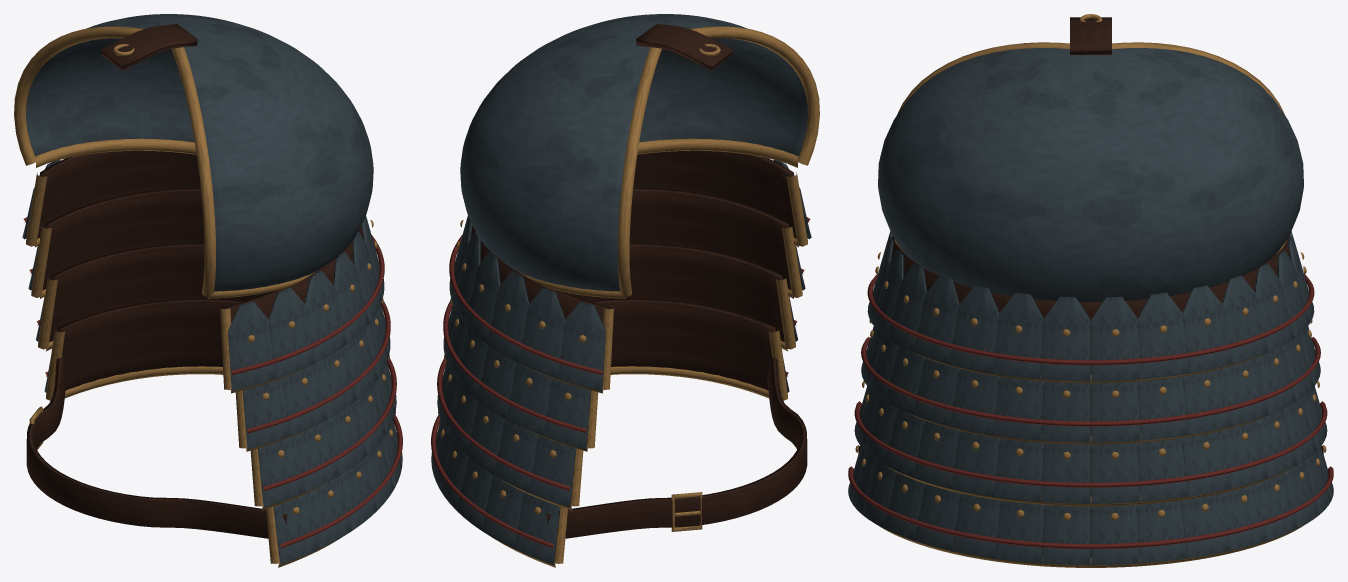
3 views of the same model, side by side, from view 1: azimuth 30°, elevation 25°; view 2: azimuth 150°, elevation 25°; view 3: azimuth 270°, elevation 25° (orthographic). The views are drawn at different scales.
Visible parts, largest first — view 1: blackened lamellar plate, oiled strap leather, aged alloy edge, woven wool; view 2: blackened lamellar plate, oiled strap leather, aged alloy edge, woven wool; view 3: blackened lamellar plate, woven wool, aged alloy edge, oiled strap leather.
Boxes of the visible parts, box(x1,y1,x2,y2) form: blackened lamellar plate: box(22, 14, 402, 564); oiled strap leather: box(26, 24, 362, 538); aged alloy edge: box(14, 26, 395, 567); woven wool: box(23, 217, 402, 548); blackened lamellar plate: box(431, 14, 811, 564); oiled strap leather: box(471, 24, 807, 538); aged alloy edge: box(438, 26, 819, 567); woven wool: box(431, 217, 810, 548); blackened lamellar plate: box(848, 48, 1333, 565); woven wool: box(848, 274, 1333, 548); aged alloy edge: box(855, 14, 1326, 567); oiled strap leather: box(858, 17, 1323, 557).
Bounding box in the file's own units: 0.1995 × 0.267 × 0.2551.
4 materials, 4 textured.
